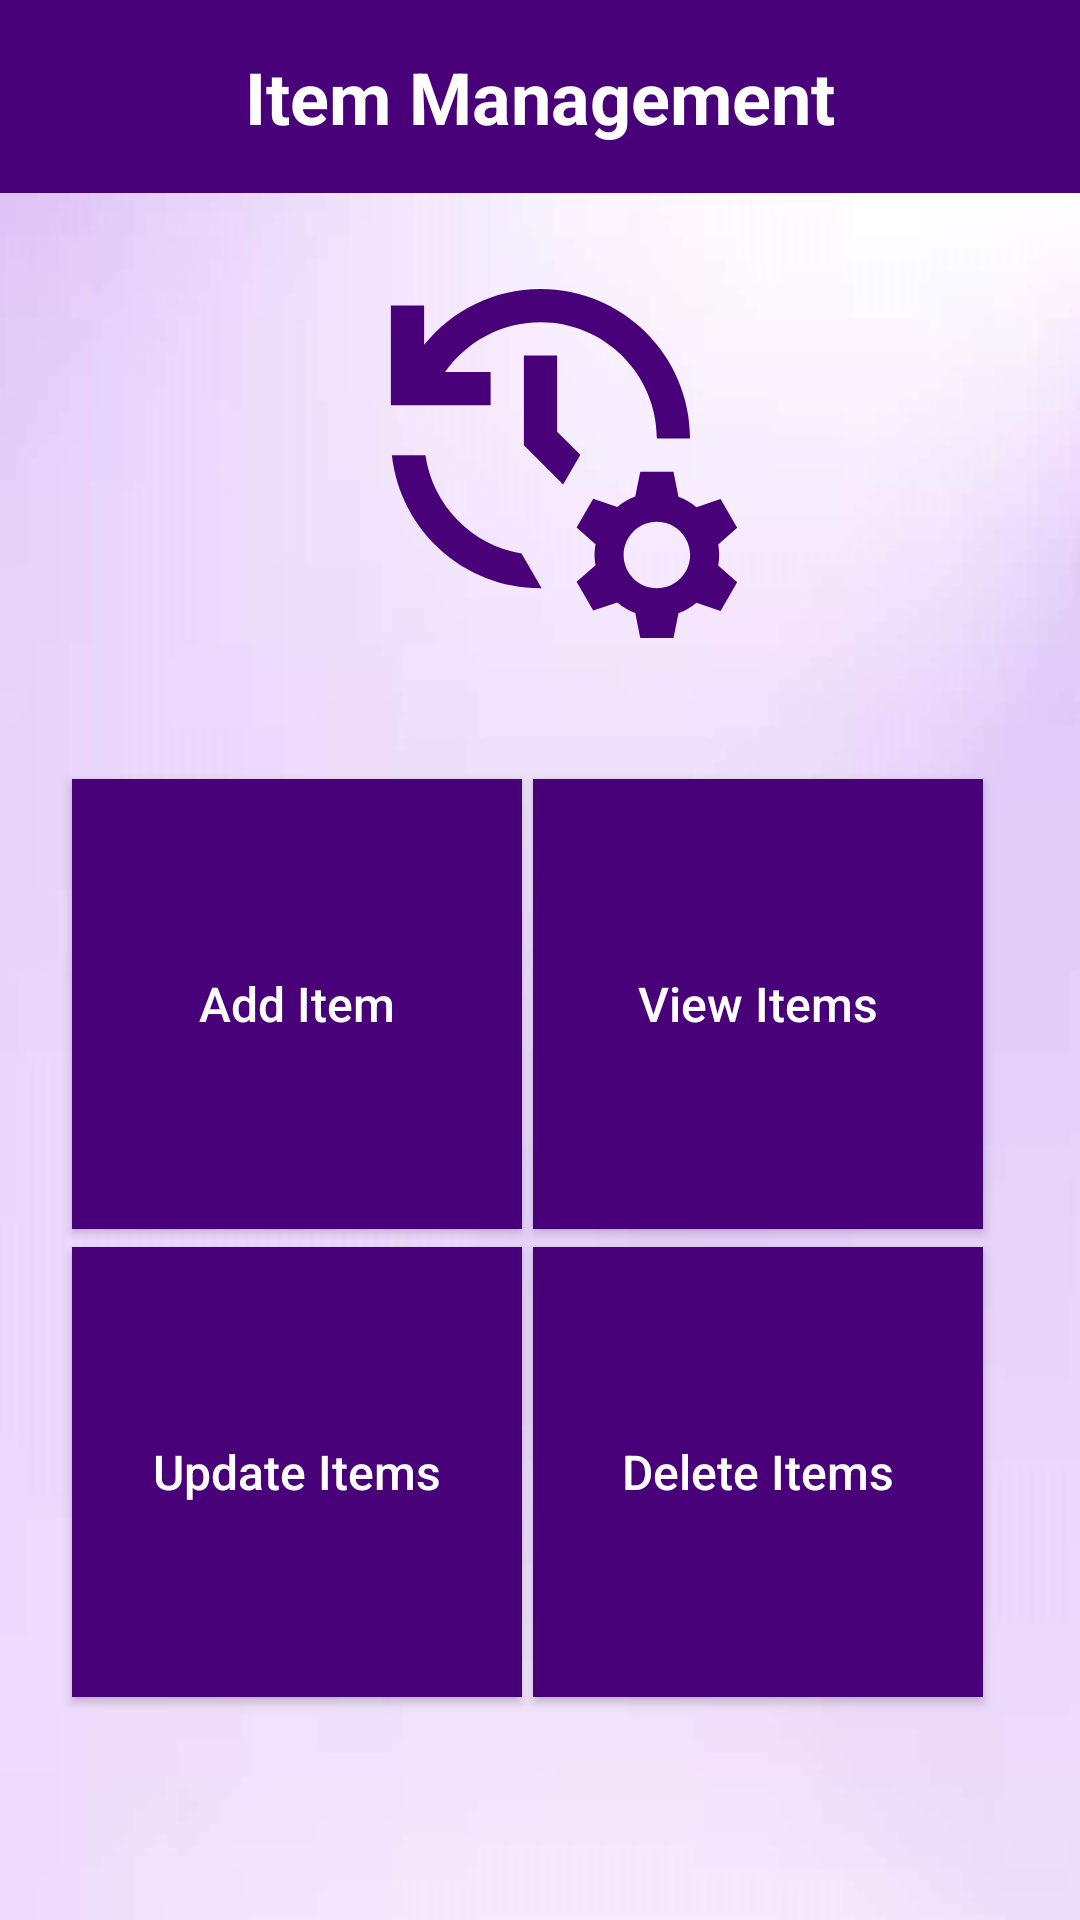

Screen size 1080 x 1920. Icon name, then its box in pixels as BBox(x1, y1, x2, y2):
manage history: BBox(390, 289, 737, 638)
